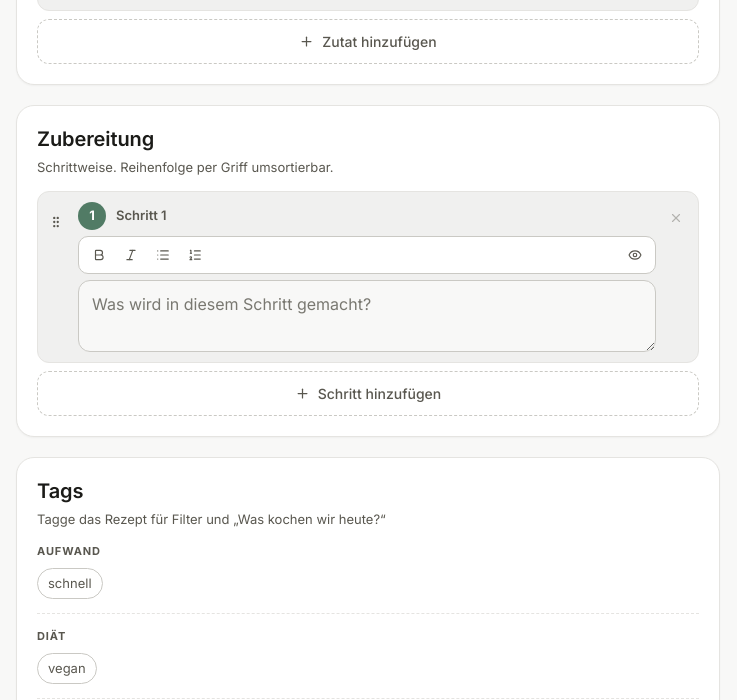
it: RecipeFormPage (create) › wraps the selected step text in **…** when the user clicks the Fett toolbar button
The image size is (737, 700).
(page scrolled)
Type "Kartoffeln schälen" into the text box named "Schritt 1".
click(367, 316); type("Kartoffeln schälen")  # box 78,280 -> 656,352
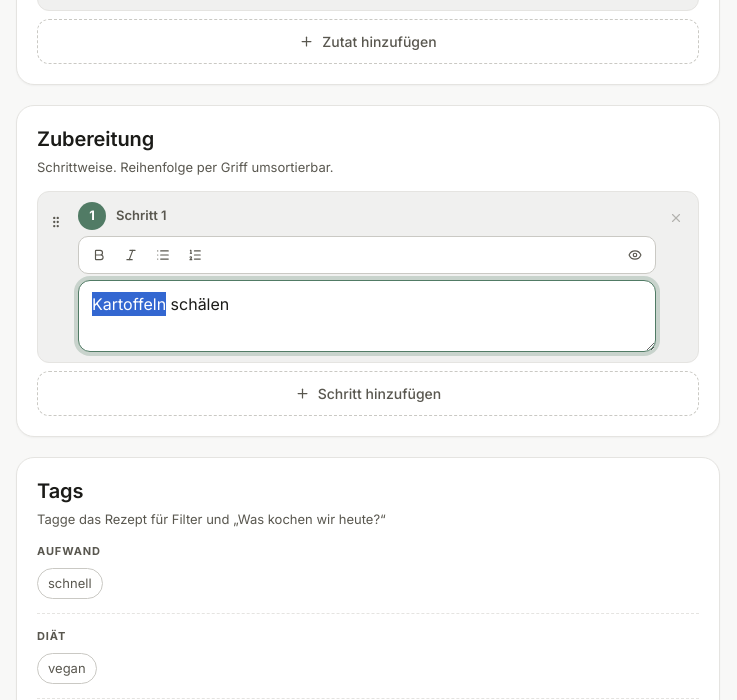
# Each step row has its own toolbar — pick the first row's Fett button.
Click the button named "Fett".
click(99, 255)  # box 85,241 -> 113,269
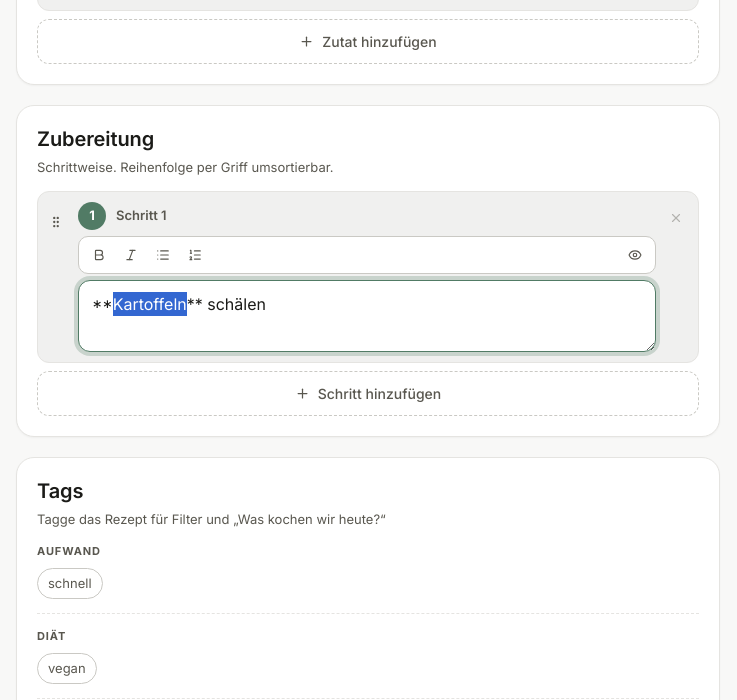
Now the text box named "Schritt 1" holds "**Kartoffeln** schälen", box 78,280 -> 656,352
